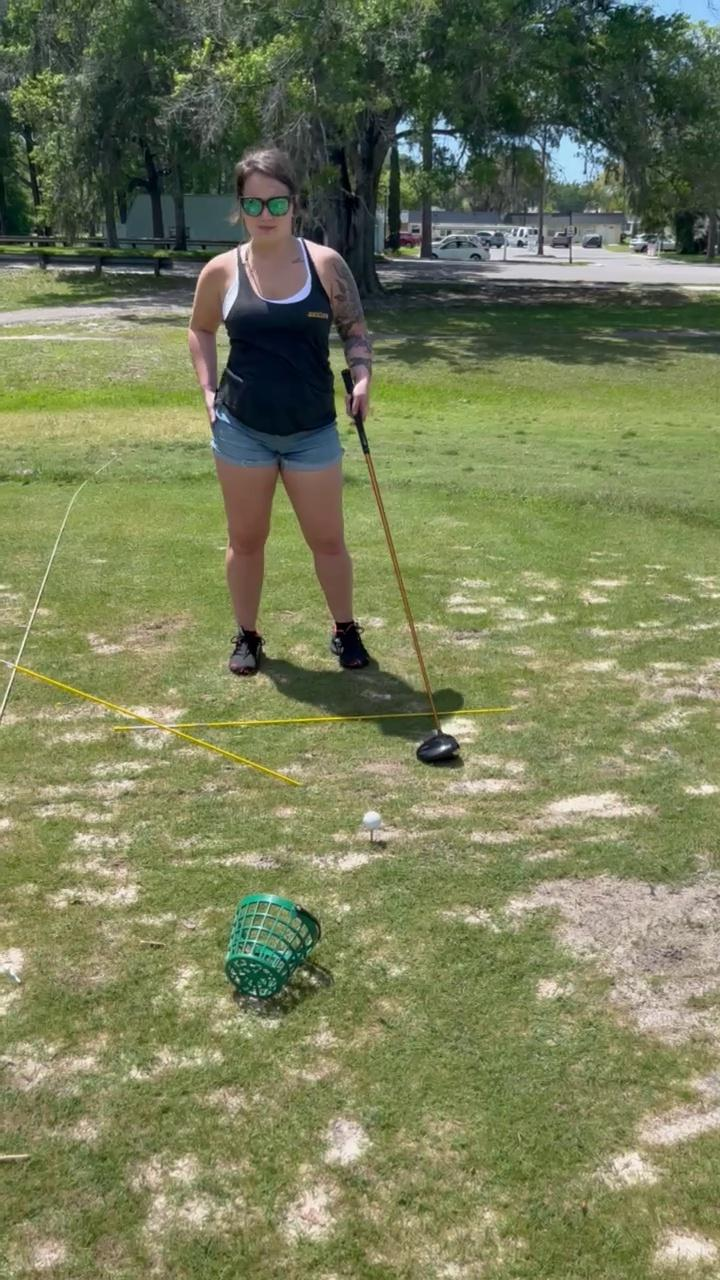ClubHead: (413, 715, 465, 778)
GolfBall: (360, 802, 384, 840)
